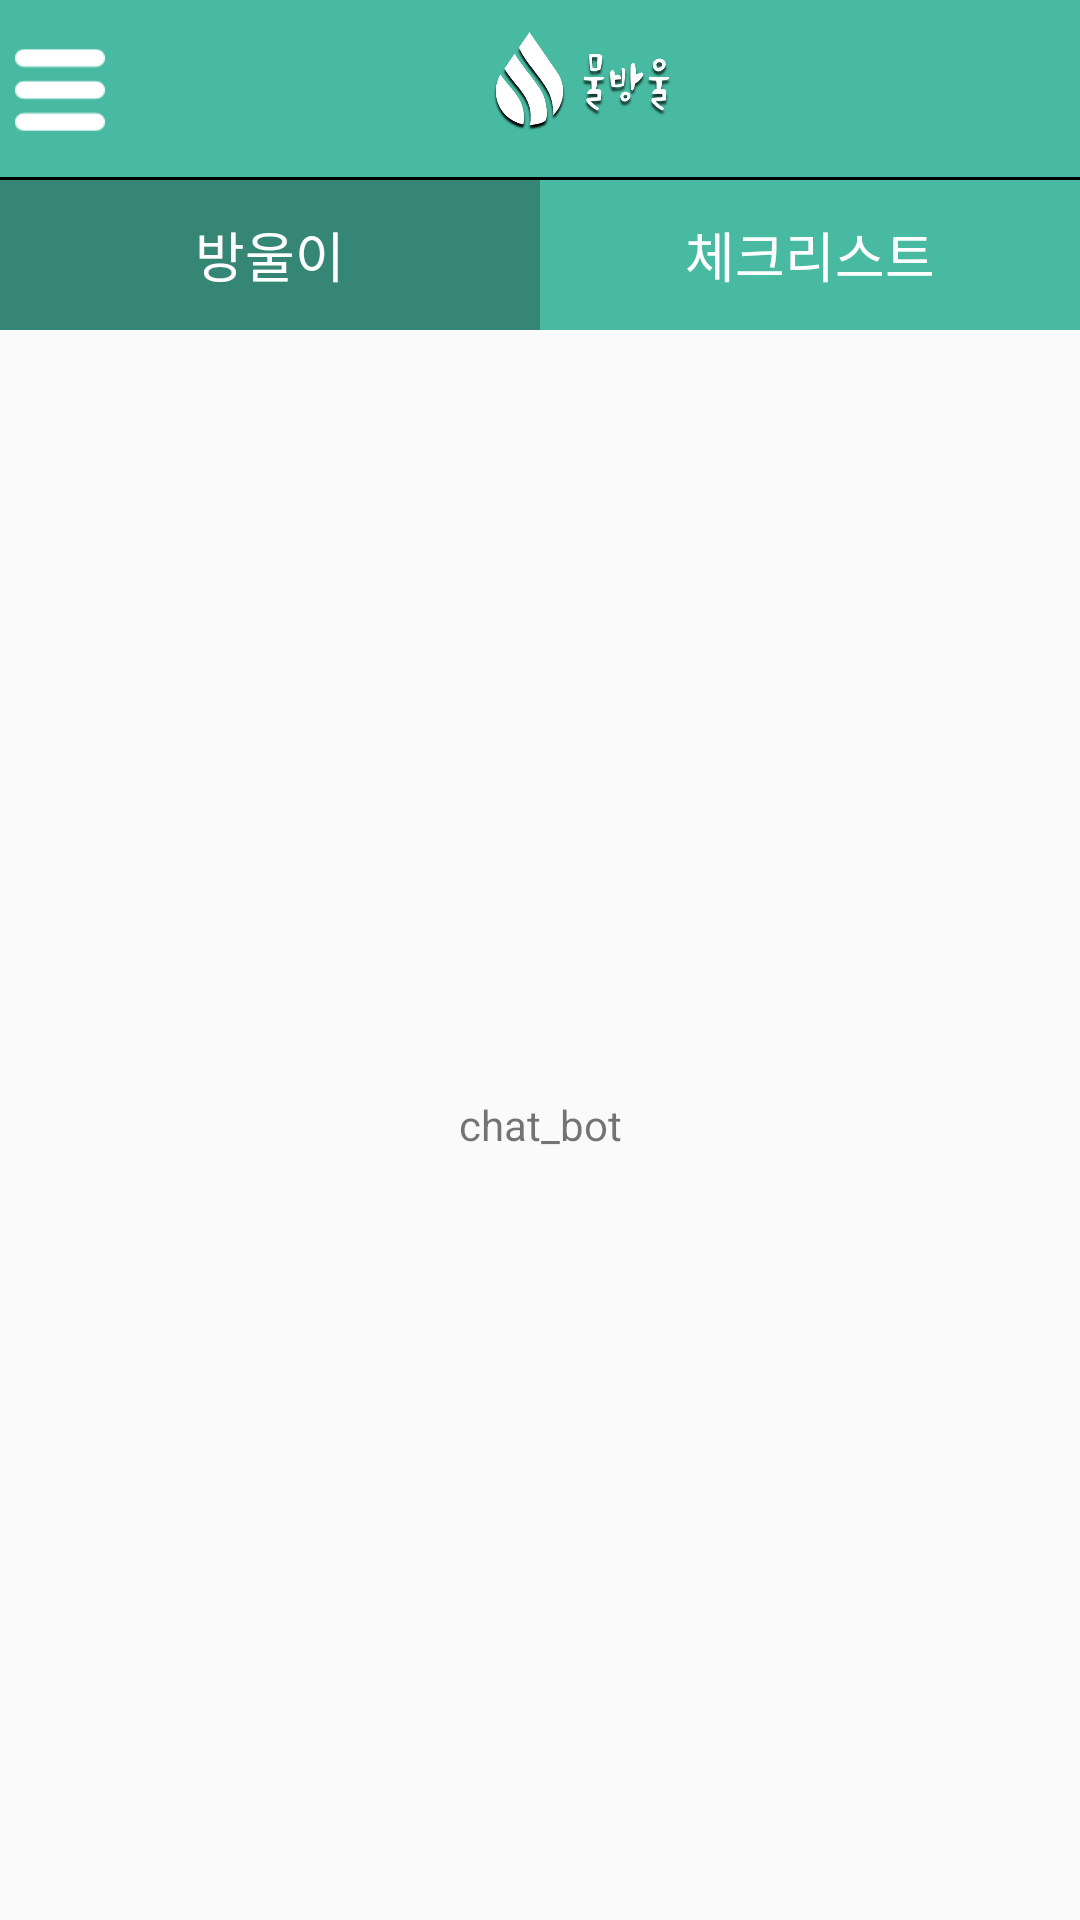

Icons on this 1080px x 1920px Android screen, each with its box as rect(x1, y1, x2, y2):
hambutton: rect(15, 49, 105, 131)
